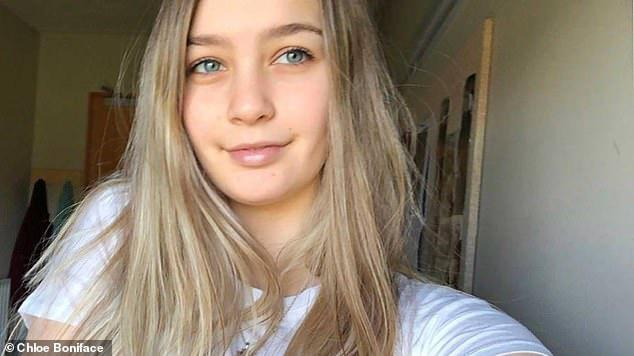face: (181, 1, 328, 206)
